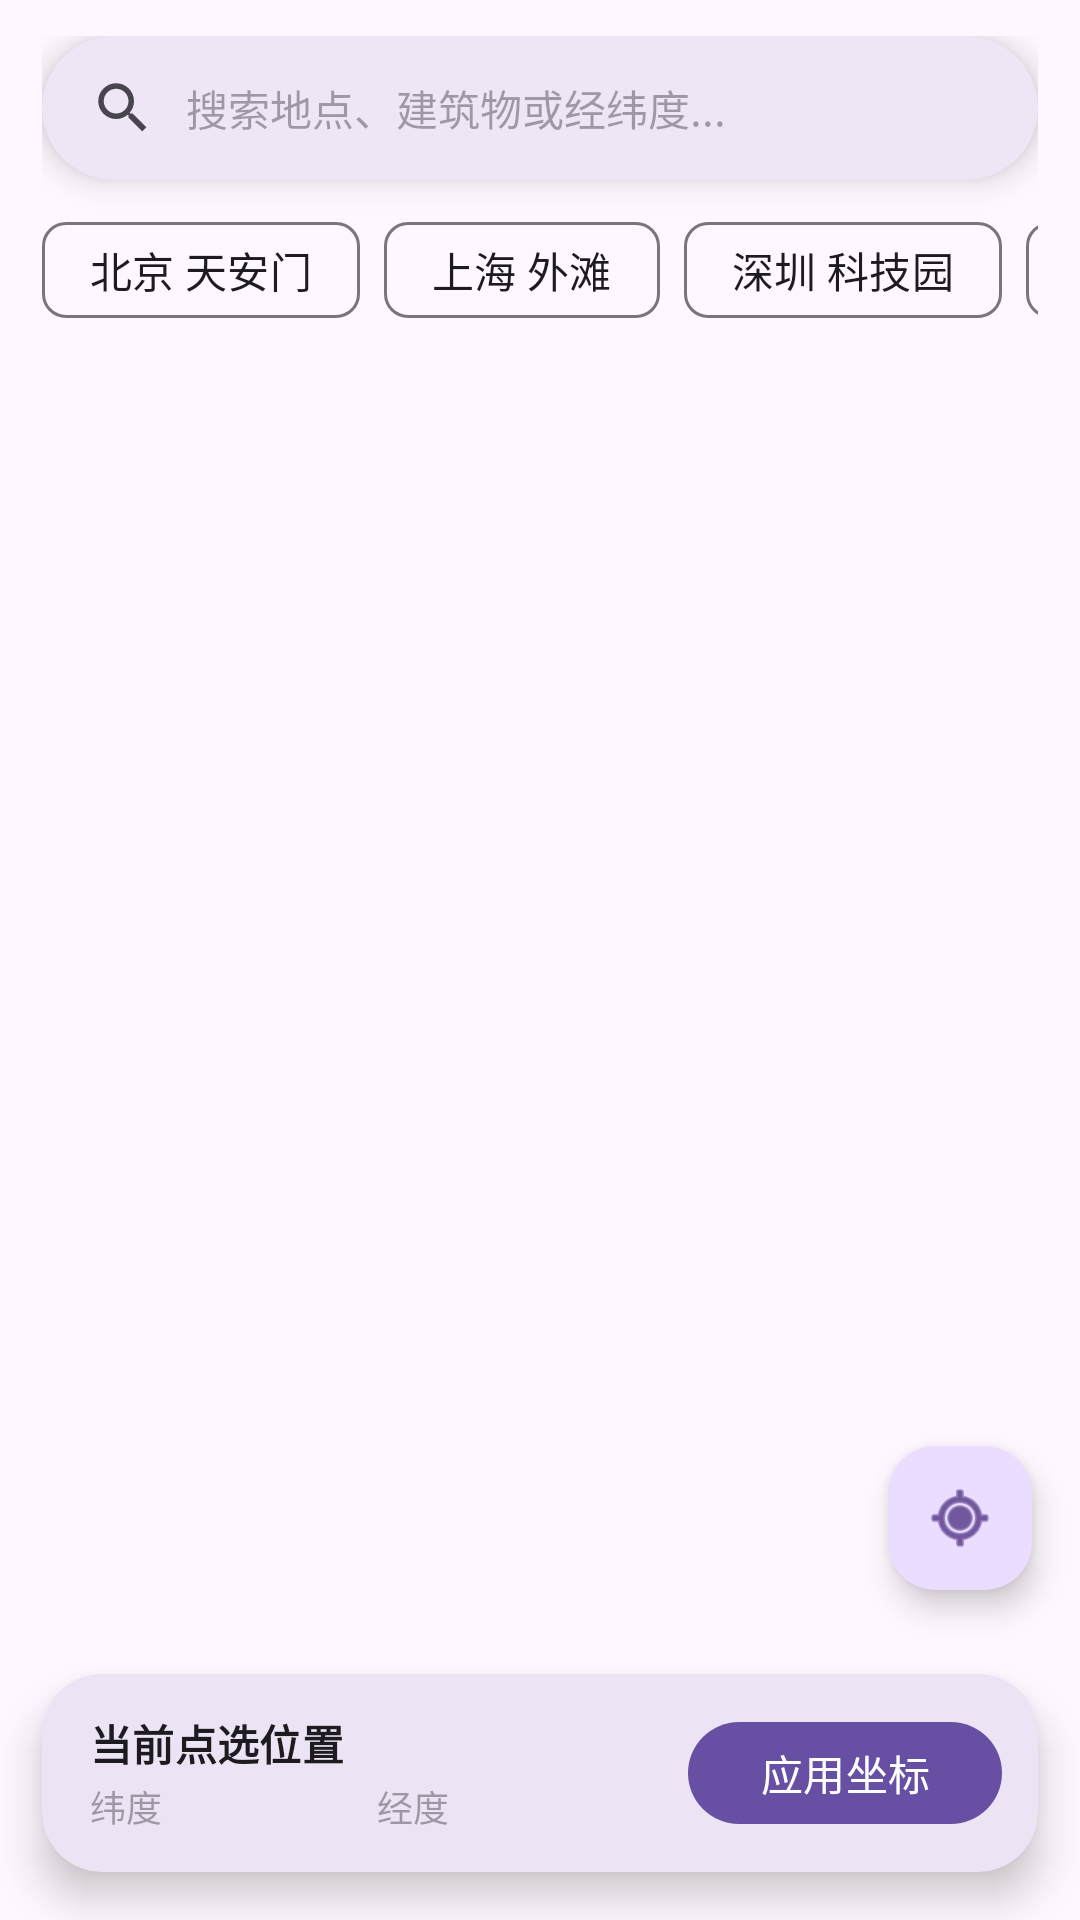

Icon click points for this 1080px×1920px phone screenshot, format (x,y):
search: (122,107)
回到当前设置位置: (960,1518)
